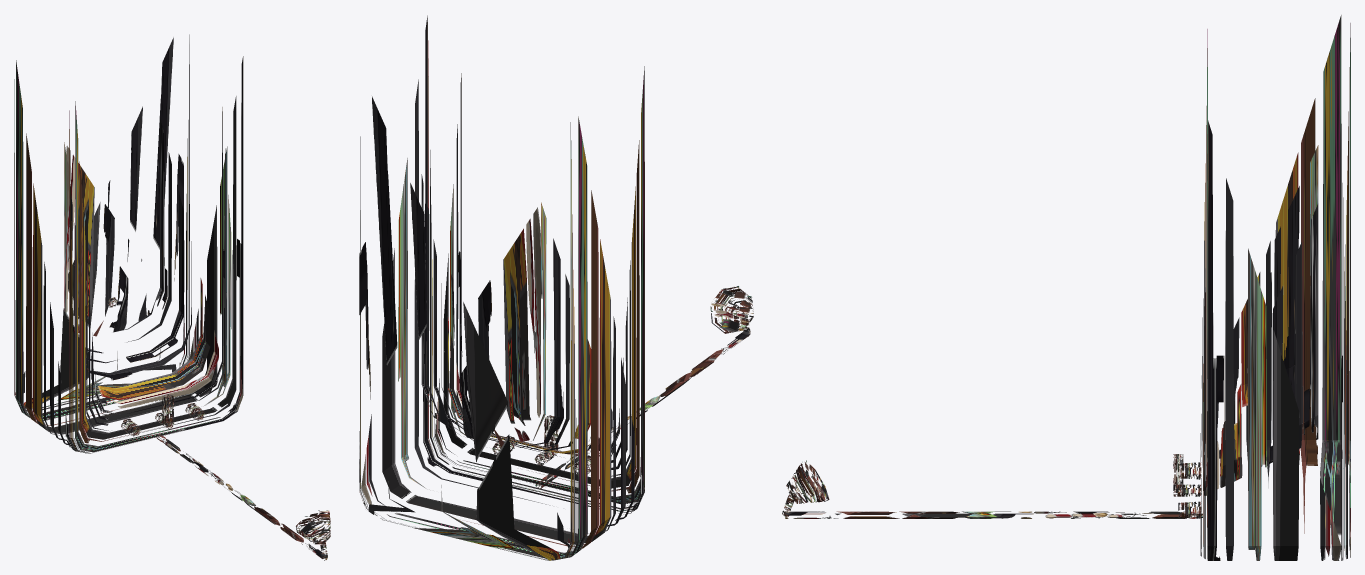
3 views of the same model, side by side, from view 1: azimuth 30°, elevation 25°; view 2: azimuth 150°, elevation 25°; view 3: azimuth 270°, elevation 25° (orthographic). The views are drawn at different scales.
Size of the model in its own units: 0.92 by 1.82 by 2.08.
